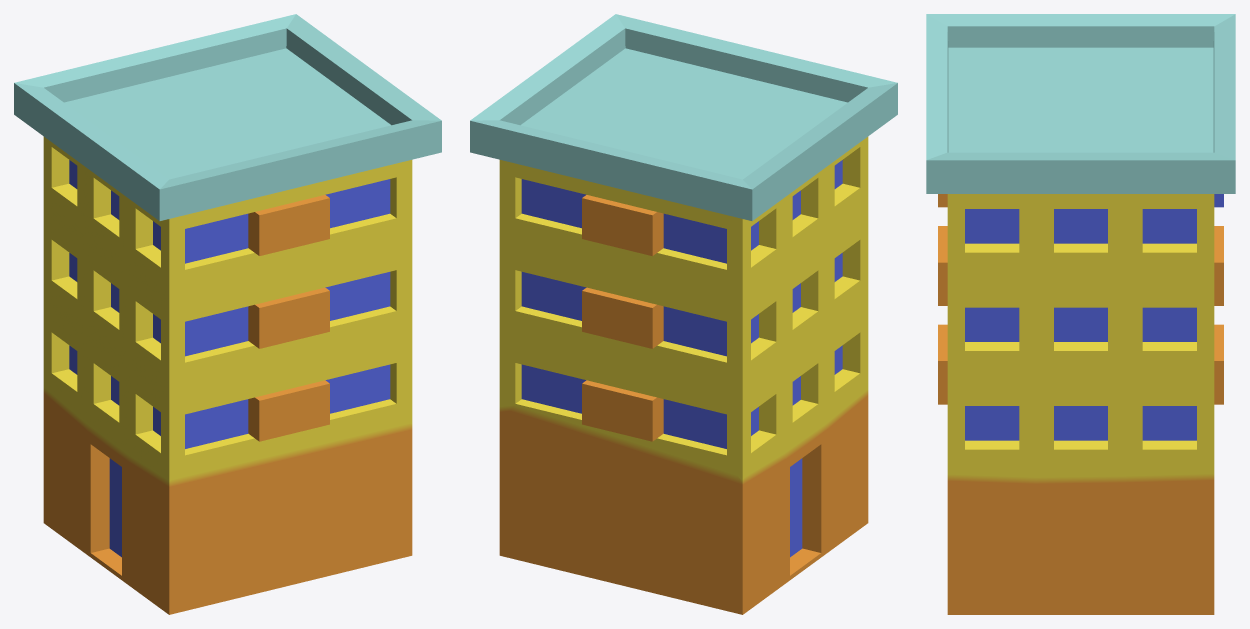
The model's file is house20.fbx.
The picture shows the model from 3 angles, left to right: view 1: azimuth 30°, elevation 25°; view 2: azimuth 150°, elevation 25°; view 3: azimuth 270°, elevation 25°; orthographic projection. The views are drawn at different scales.
Visible parts, largest first — view 1: building.005; view 2: building.005; view 3: building.005.
Boxes of the visible parts, x1,y1,x2,y2 form: building.005: [14, 14, 441, 614]; building.005: [470, 14, 897, 614]; building.005: [926, 14, 1235, 614].
Size of the model in its own units: 1069 by 1584 by 956.
